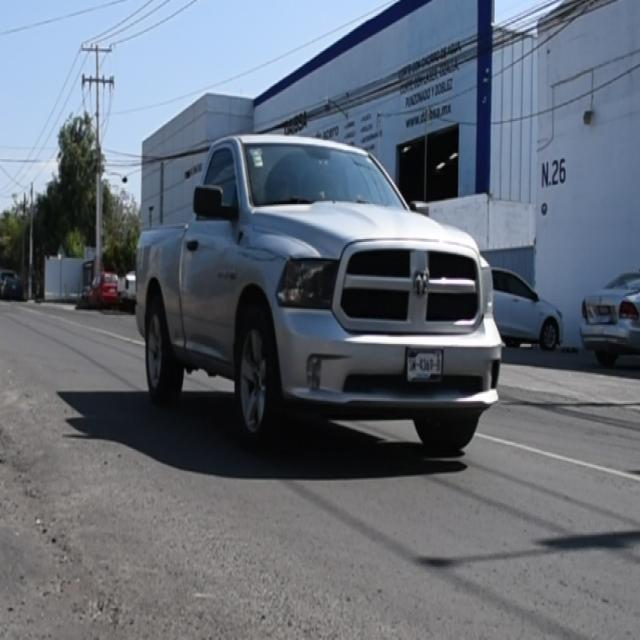placa: (406, 354, 446, 376)
